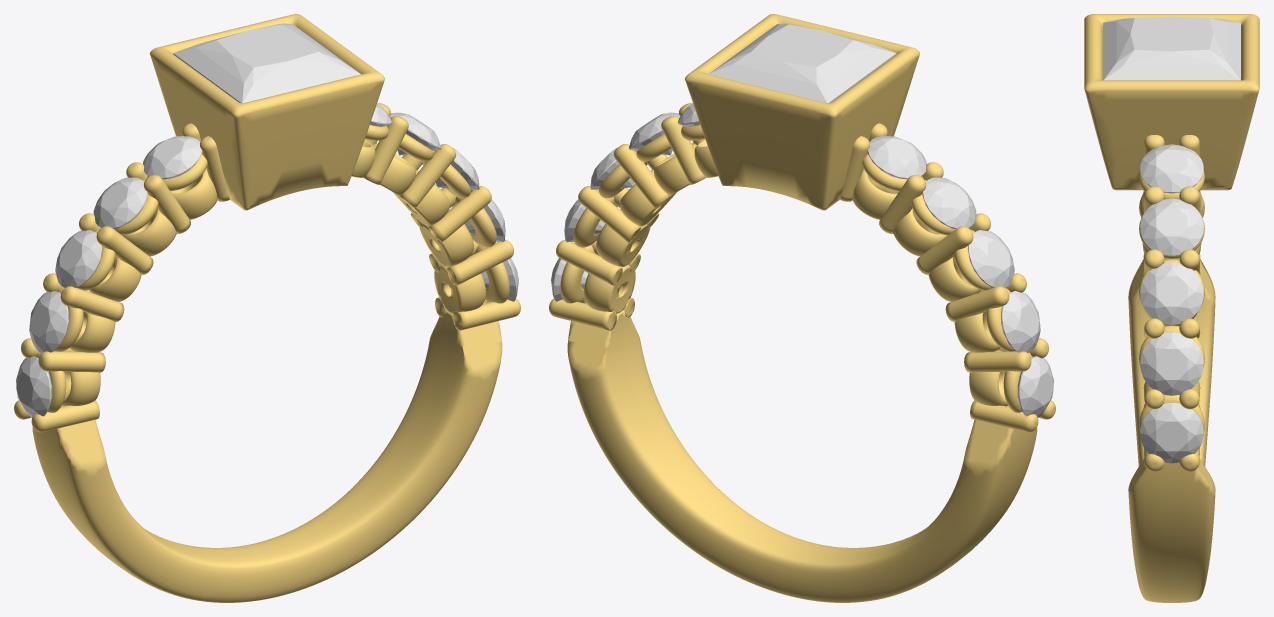
Rendered from diamond-princess-yellowgold-bezelset-straighttaperedband-11stone.glb.
3 views of the same model, side by side, from view 1: azimuth 30°, elevation 25°; view 2: azimuth 150°, elevation 25°; view 3: azimuth 270°, elevation 25° (orthographic).
Visible parts, largest first — view 1: metal, stone, side.002, side.003, side.001, side.004, side, side.006; view 2: metal, stone, side.002, side.003, side.001, side.004, side, side.006; view 3: metal, stone, side.008, side.007, side.009, side.006, side.005.
Part boxes in pixels (<box>): metal: <box>14,14,520,602</box>; stone: <box>173,23,360,102</box>; side.002: <box>55,230,101,287</box>; side.003: <box>93,177,147,228</box>; side.001: <box>29,291,68,352</box>; side.004: <box>143,136,202,179</box>; side: <box>16,356,52,417</box>; side.006: <box>389,112,441,155</box>; metal: <box>549,14,1055,602</box>; stone: <box>709,23,896,102</box>; side.002: <box>968,230,1014,287</box>; side.003: <box>922,177,976,228</box>; side.001: <box>1001,291,1040,352</box>; side.004: <box>867,136,926,179</box>; side: <box>1017,356,1053,417</box>; side.006: <box>628,112,680,155</box>; metal: <box>1084,14,1259,602</box>; stone: <box>1103,16,1240,80</box>; side.008: <box>1140,332,1203,395</box>; side.007: <box>1140,262,1203,324</box>; side.009: <box>1140,402,1203,463</box>; side.006: <box>1140,198,1203,256</box>; side.005: <box>1140,144,1203,193</box>.
Size of the model in its own units: 22.2 by 23.65 by 6.89.
